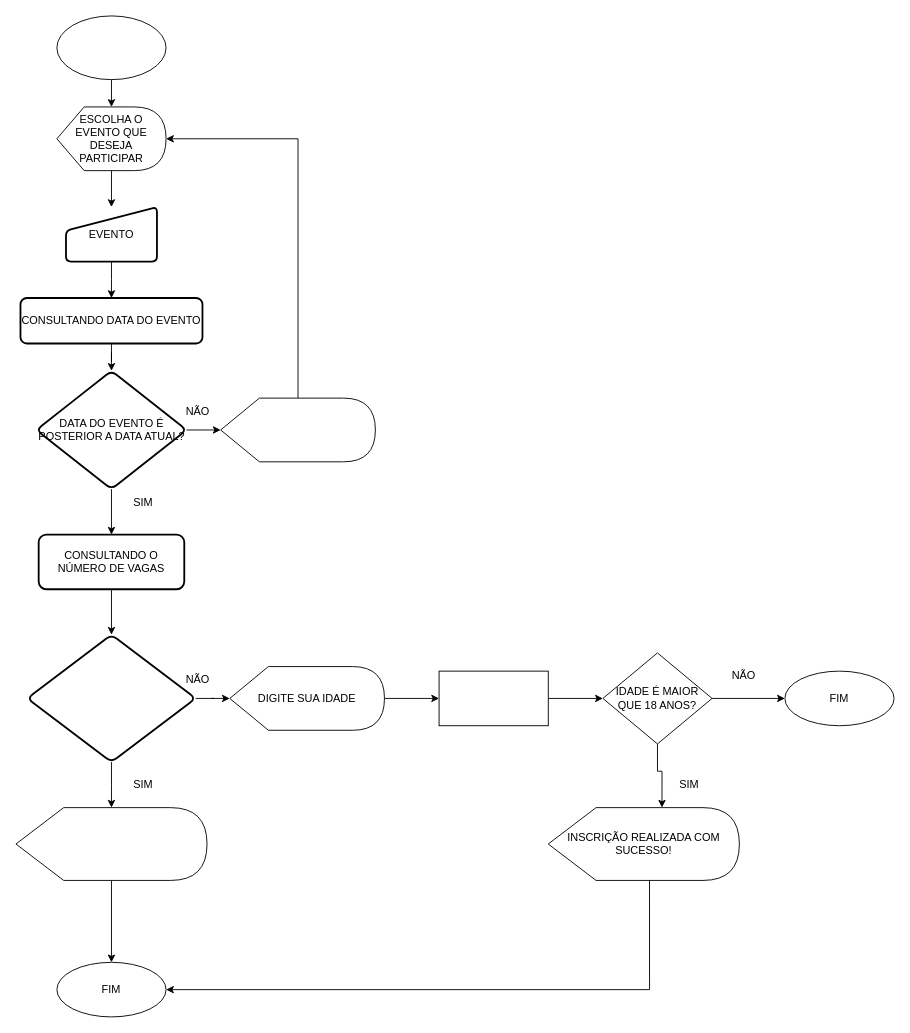
The diagram is 910 pixels wide and 1033 high, and some of its shapes have lost their labels. Here are the shapes that lost their labels. From the top down, the centre of each, then its label:
point (111, 47): INICIO
point (297, 429): NÃO FOI POSSÍVEL REALIZAR A INSCRIÇÃO, DATA INVÁLIDA
point (111, 698): O NÚMERO DE VAGAS PREENCHIDAS É MAIOR OU IGUAL A 100?
point (493, 698): VERIFICANDO SE IDADE É MAIOR QUE 18 ANOS
point (111, 843): INSCRIÇÃO NÃO REALIZADA, LIMITE DE PARTICIPANTES EXCEDIDO
